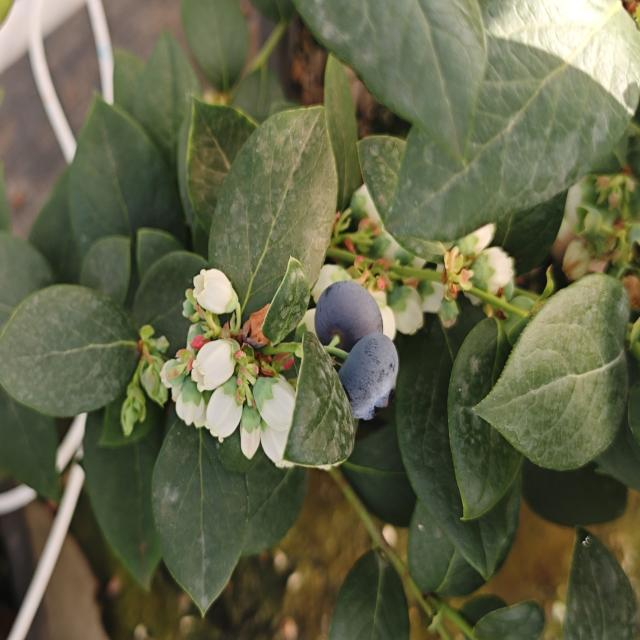ripe: (307, 274, 390, 364), (333, 328, 405, 425)
